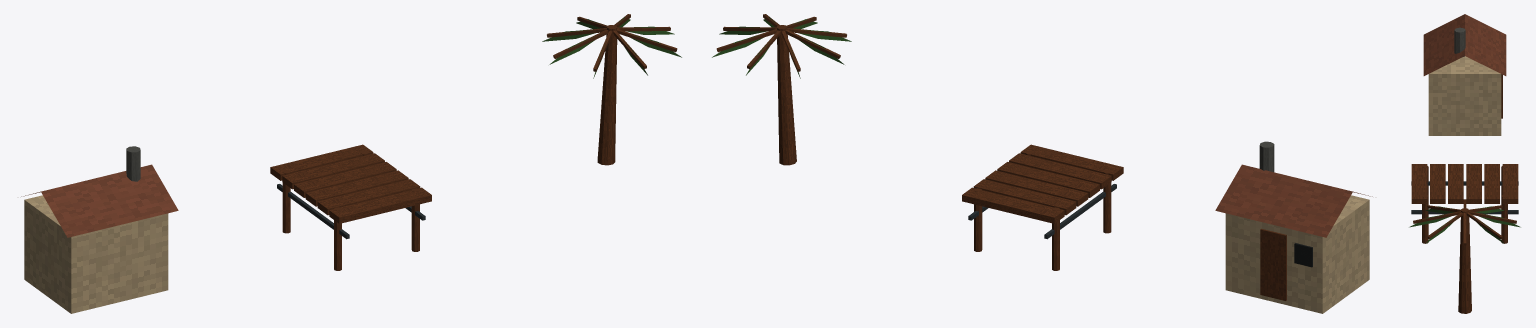
File: KIT_quiet_coast.gltf
3 views of the same model, side by side, from view 1: azimuth 30°, elevation 25°; view 2: azimuth 150°, elevation 25°; view 3: azimuth 270°, elevation 25° (orthographic). The views are drawn at different scales.
Visible parts, largest first — view 1: 01_house, 02_pier, 03_palm; view 2: 01_house, 02_pier, 03_palm; view 3: 01_house, 02_pier, 03_palm.
Part boxes in pixels (x1,y1,x2,y2): 01_house: (21, 146, 178, 313); 02_pier: (270, 144, 431, 270); 03_palm: (542, 14, 681, 165); 01_house: (1215, 141, 1372, 313); 02_pier: (962, 144, 1123, 270); 03_palm: (712, 14, 851, 165); 01_house: (1423, 14, 1506, 135); 02_pier: (1411, 164, 1518, 243); 03_palm: (1409, 199, 1520, 313).
Bounding box in the file's own units: 13.7 × 3.1 × 2.74.
Materials: 7 (7 with a texture image).
